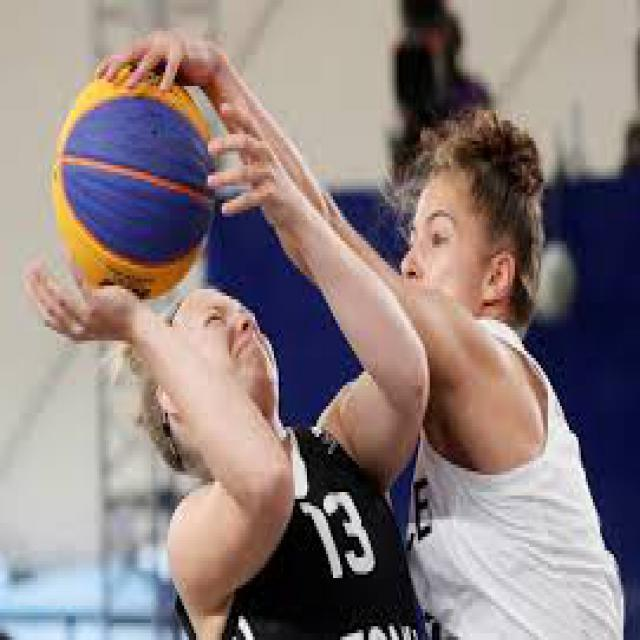basketball: (52, 69, 215, 303)
